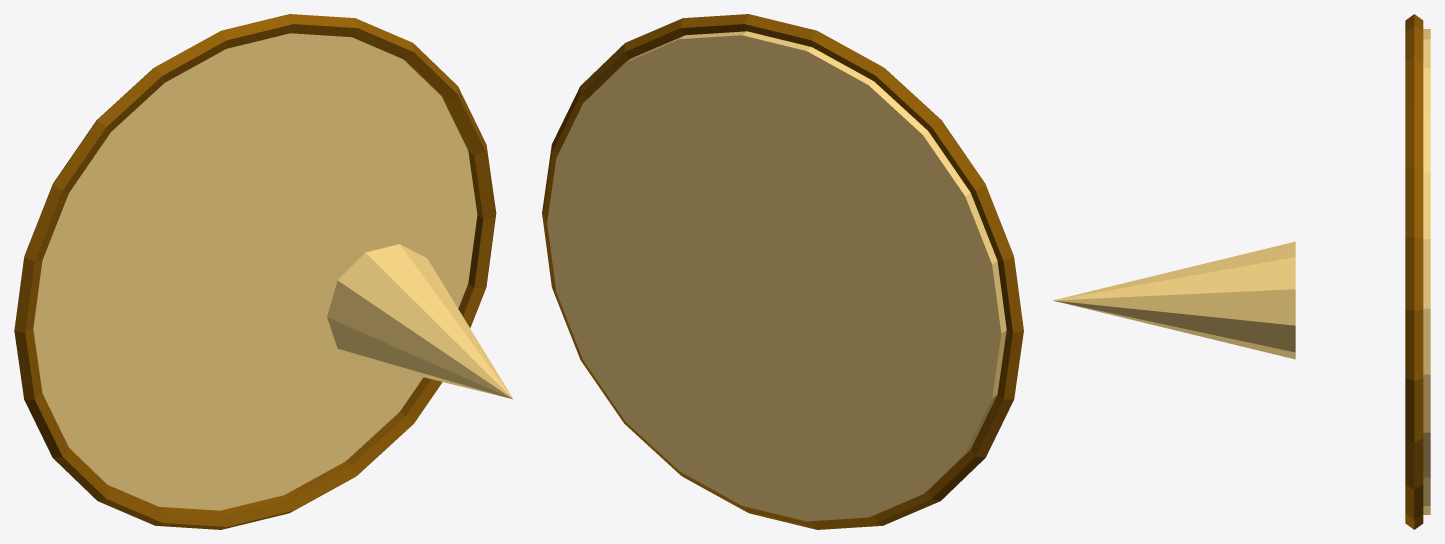
File: 05_water_star_sky_or_liquid_asset.glb
3 views of the same model, side by side, from view 1: azimuth 30°, elevation 25°; view 2: azimuth 150°, elevation 25°; view 3: azimuth 270°, elevation 25° (orthographic). The views are drawn at different scales.
Parts seen in each view (by area): view 1: liquid_surface, shoreline_rim, steam_plume; view 2: liquid_surface, shoreline_rim; view 3: steam_plume, shoreline_rim, liquid_surface.
Boxes of the visible parts, x1,y1,x2,y2 form: liquid_surface: (33,33,477,510); shoreline_rim: (14,14,496,529); steam_plume: (327,244,512,399); liquid_surface: (547,31,1006,521); shoreline_rim: (542,14,1023,529); steam_plume: (1053,241,1295,359); shoreline_rim: (1405,14,1423,529); liquid_surface: (1423,29,1430,514).
Size of the model in its own units: 1.91 by 1.89 by 1.4.
